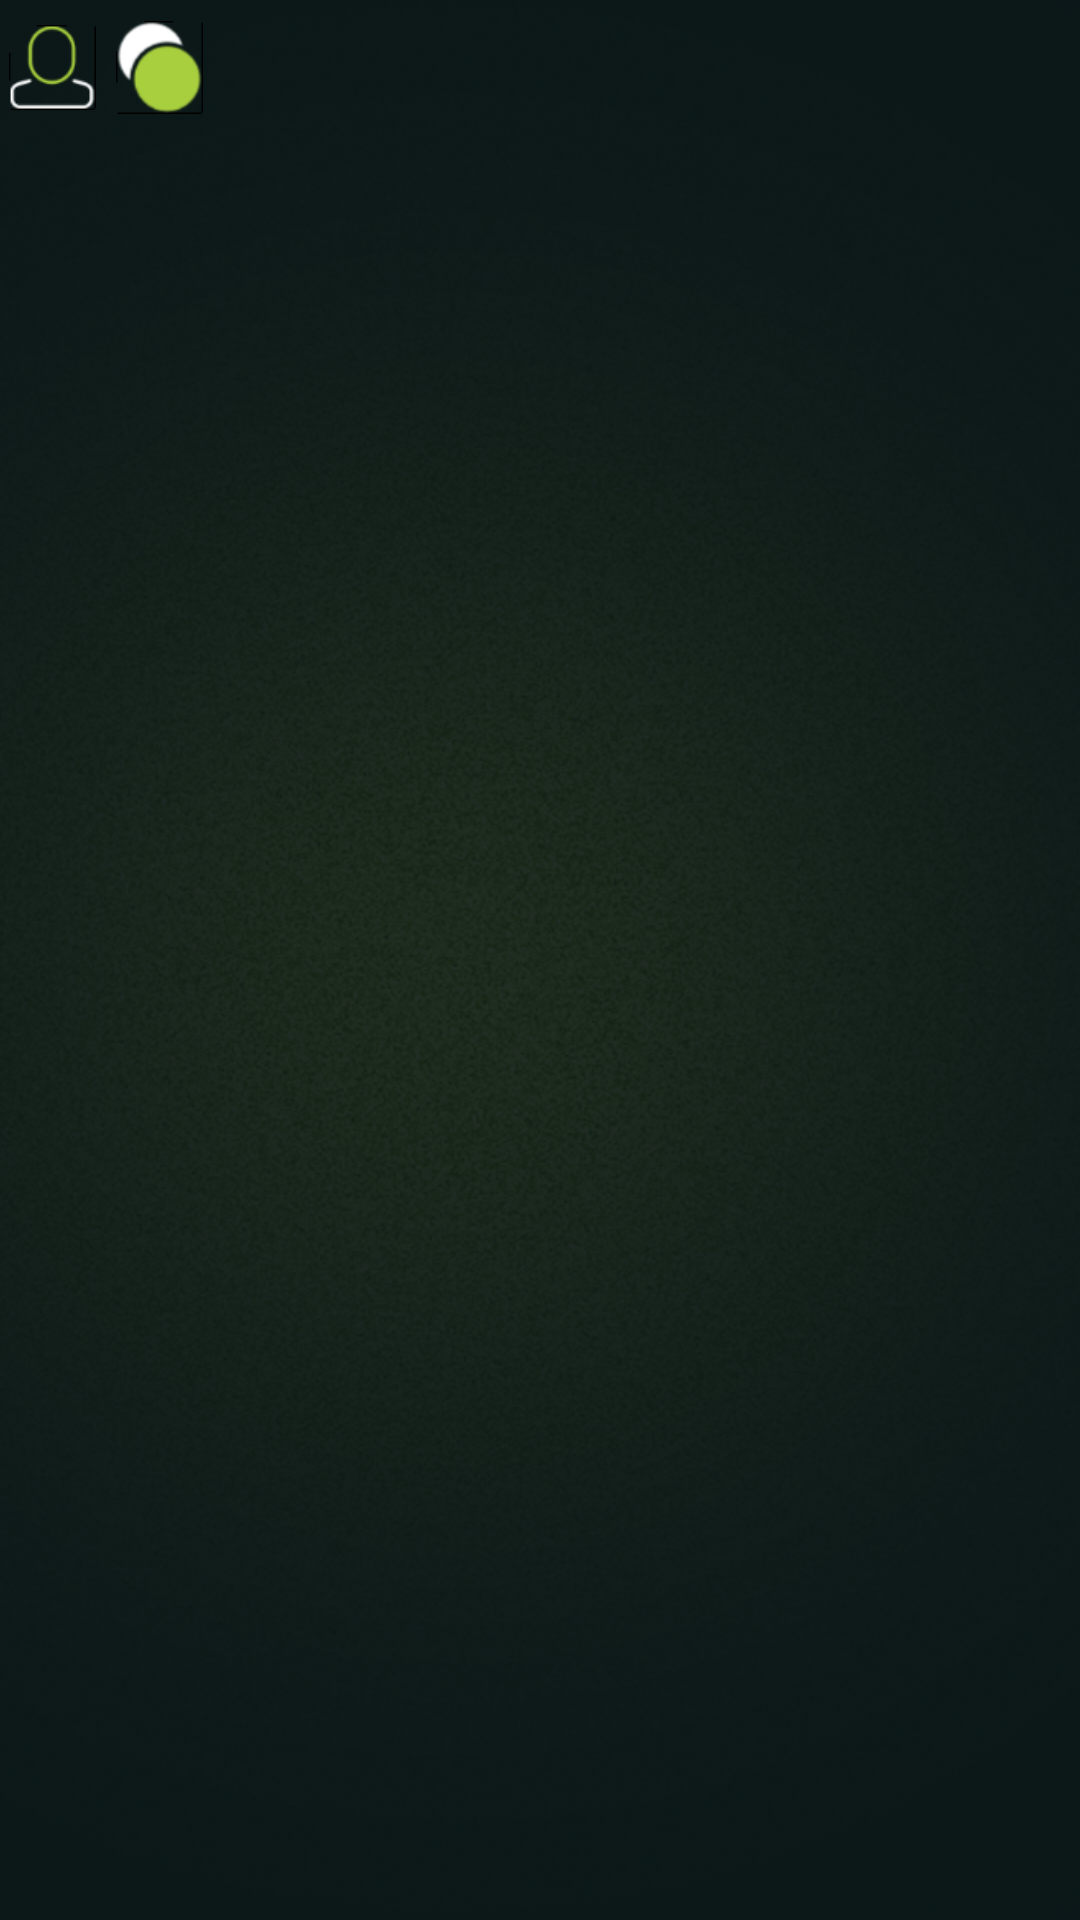

Screen size 1080px×1920px. Icon name, then its center in pixels as point (x, y):
profile: point (52, 67)
